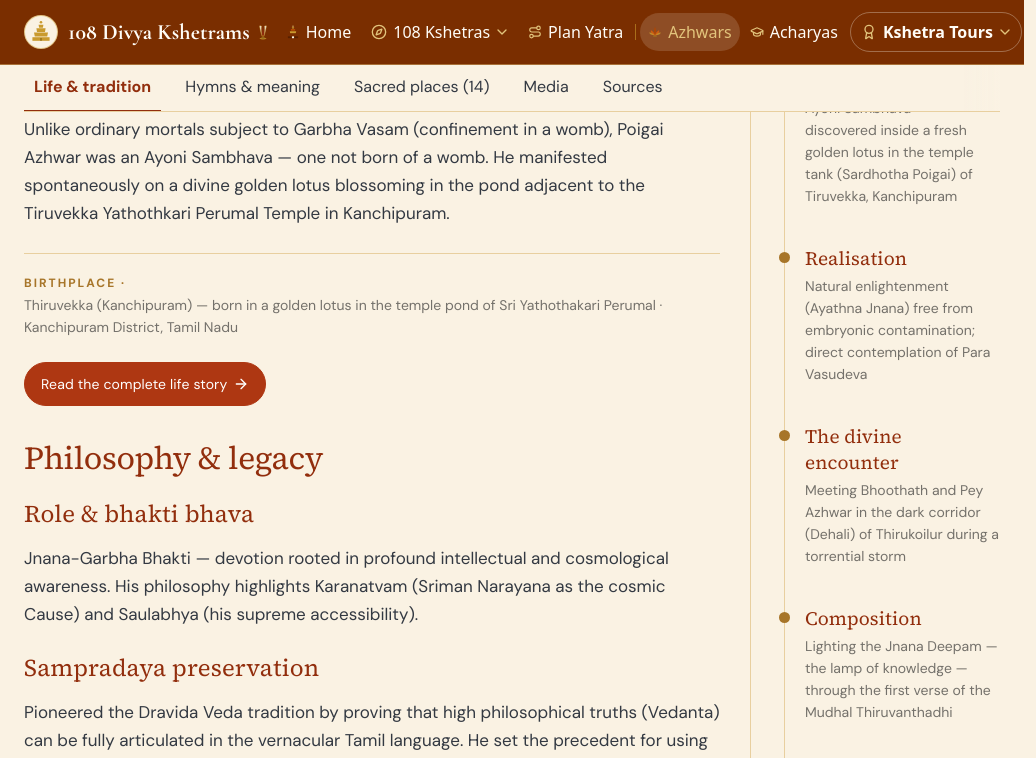
Scenario: AzhwarDetailPage (UT-AZW-03, FR-90; 2026-10-01 poigai mock restyle) › expands the complete life story from the Life & tradition tab
(page scrolled)
Expected: the text "Dehali of Thirukoilur" is not shown
Click the button "Read the complete life story" at [145, 384], box [24, 362, 266, 406]
(page scrolled)
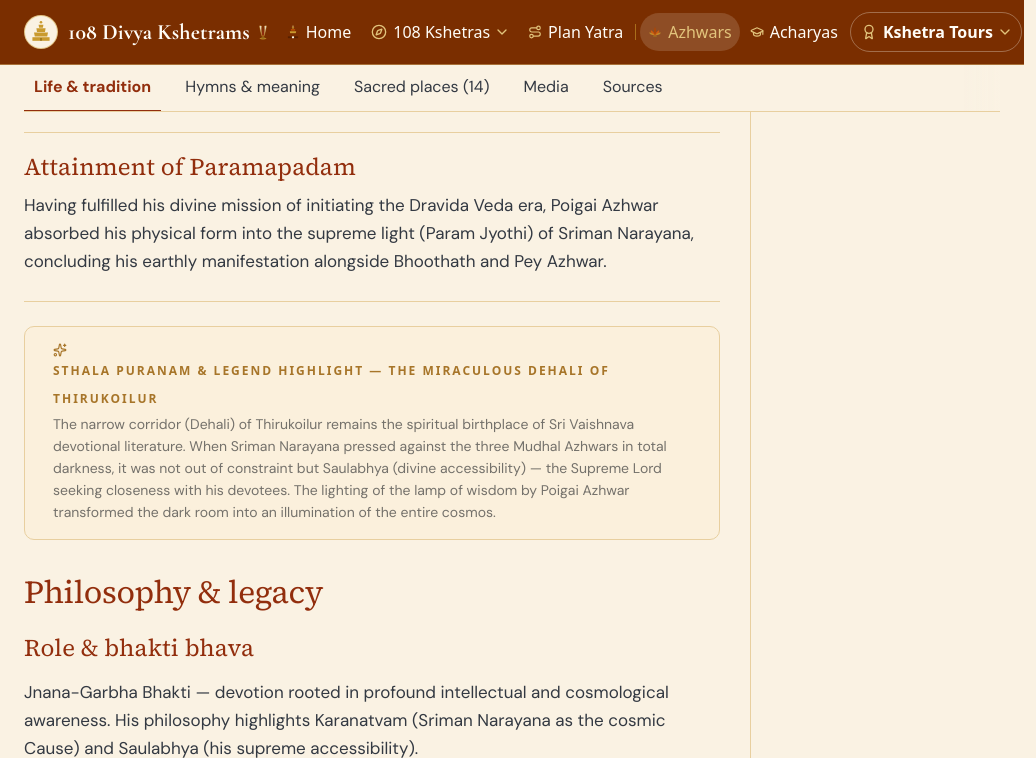
Expected: the text "Dehali of Thirukoilur" is shown, [53, 362, 610, 407]
